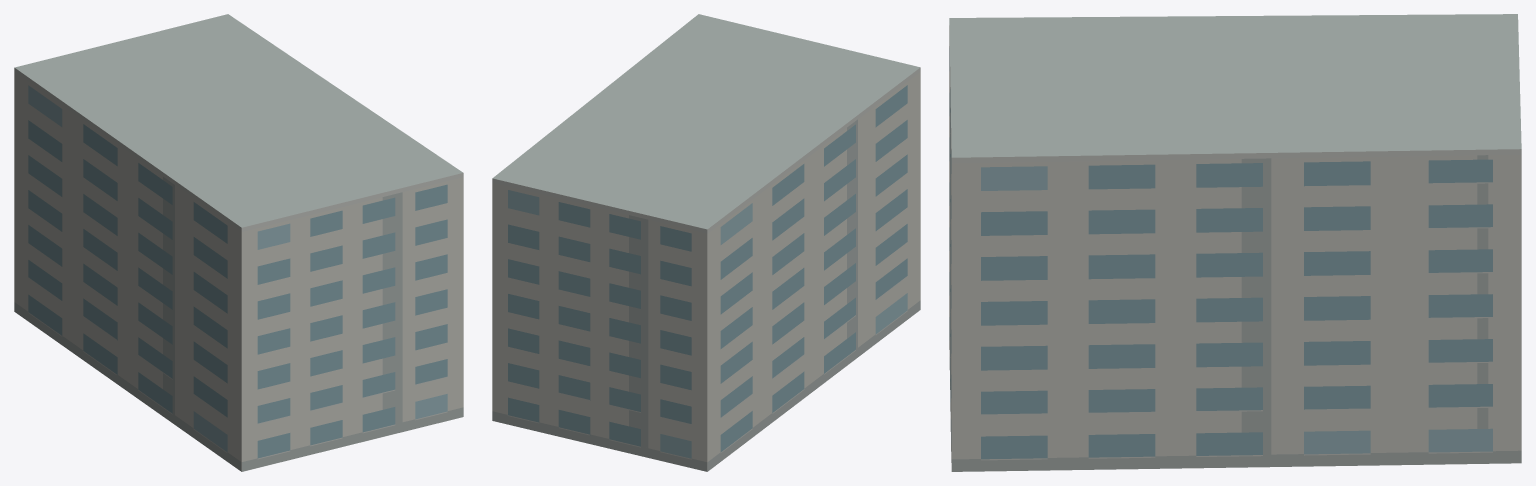
The model's file is survey-upis-32805983.glb.
The picture shows the model from 3 angles, left to right: view 1: azimuth 30°, elevation 25°; view 2: azimuth 150°, elevation 25°; view 3: azimuth 270°, elevation 25°; orthographic projection. The views are drawn at different scales.
Parts seen in each view (by area): view 1: survey-upis-32805983.tmp; view 2: survey-upis-32805983.tmp; view 3: survey-upis-32805983.tmp.
Boxes of the visible parts, x1,y1,x2,y2 form: survey-upis-32805983.tmp: (14, 14, 463, 471); survey-upis-32805983.tmp: (492, 14, 920, 471); survey-upis-32805983.tmp: (949, 14, 1521, 471).
Bounding box in the file's own units: 13.65 × 13.9 × 22.96.
